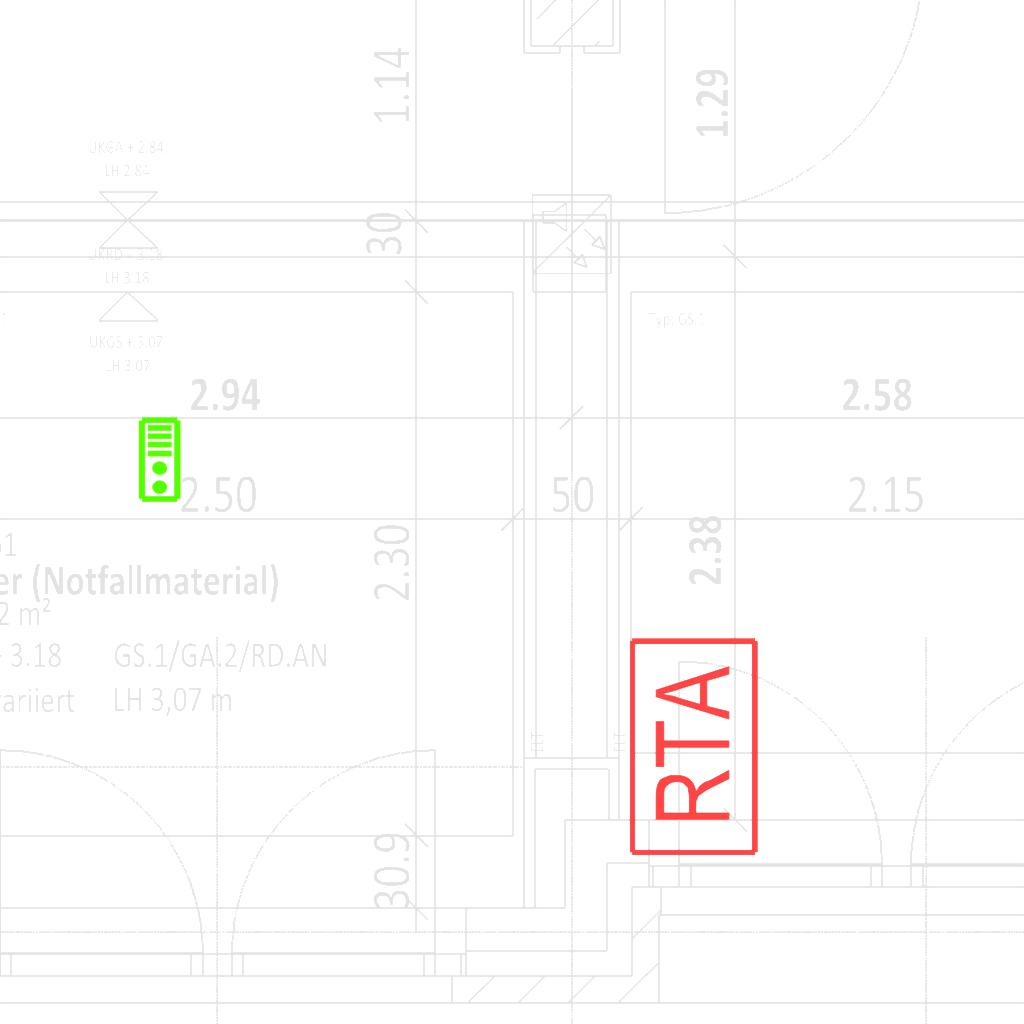Gegensprechanlage_mit_Video: (137, 416, 184, 504)
Ruf-und_Abstelltaster: (625, 635, 763, 863)
